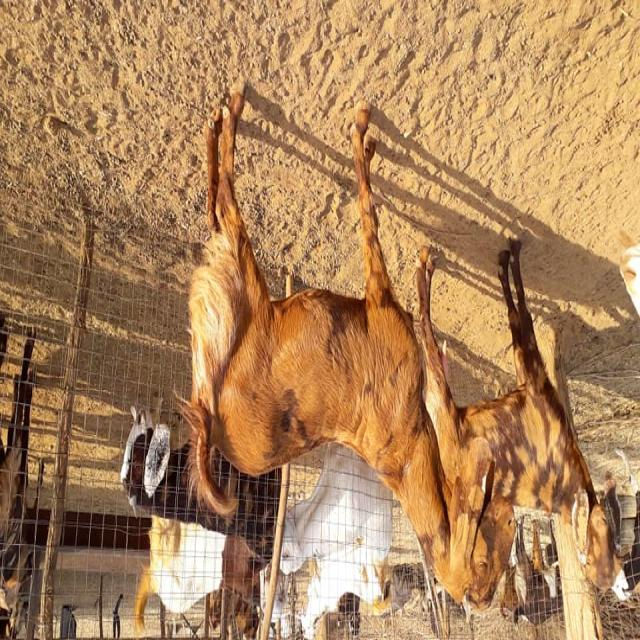Goat: (174, 81, 518, 621), (414, 240, 636, 605), (120, 394, 283, 567), (0, 322, 43, 613)
